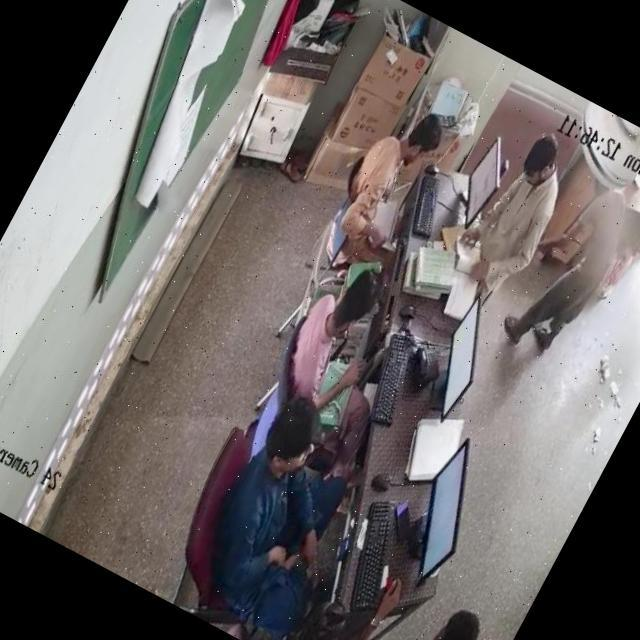person: (176, 384, 386, 632), (258, 246, 431, 462), (513, 172, 640, 359), (330, 94, 453, 263), (464, 126, 583, 290), (267, 574, 381, 640), (362, 593, 482, 640)
